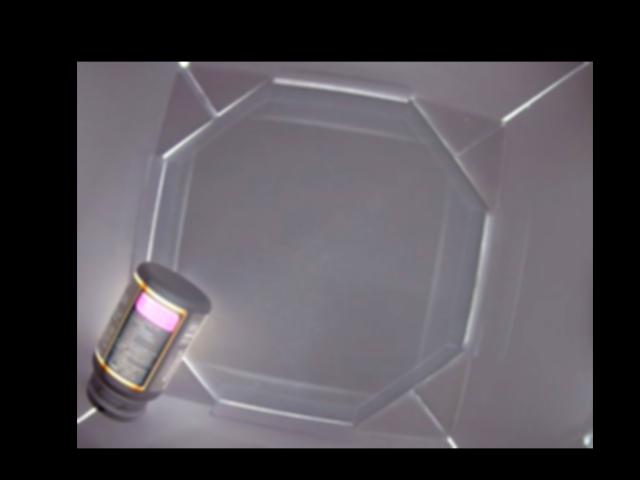Bottle: (81, 256, 212, 420)
